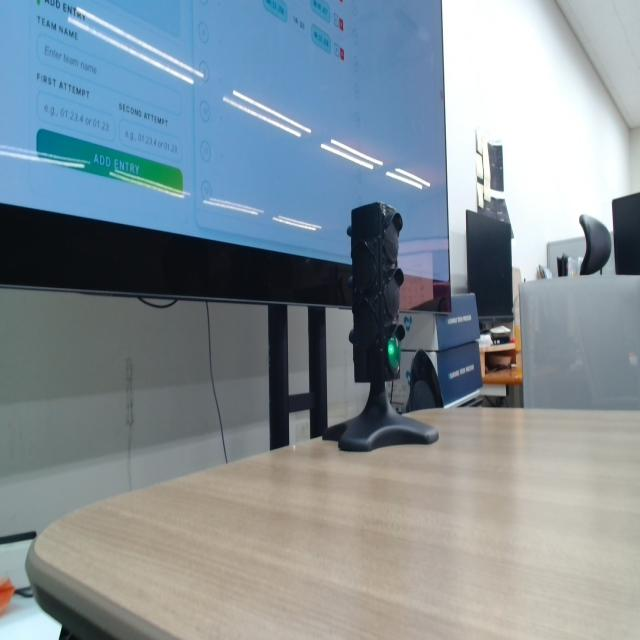green_light: (388, 337, 400, 372)
